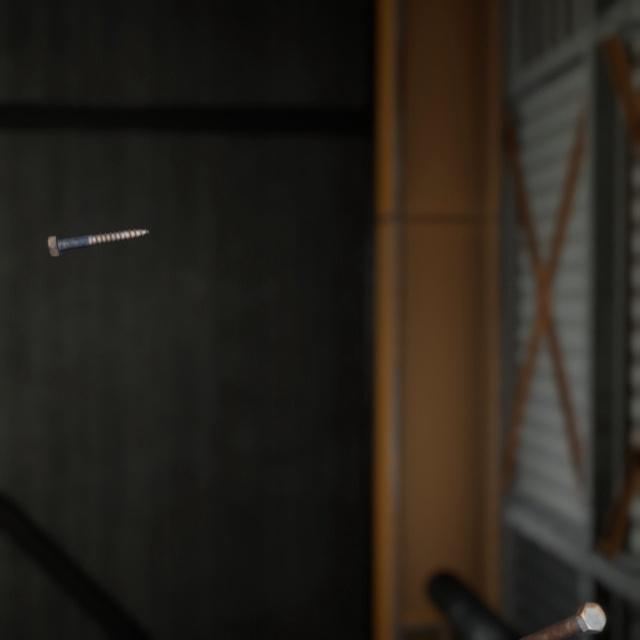bolt: (484, 573, 610, 640), (43, 208, 154, 246)
